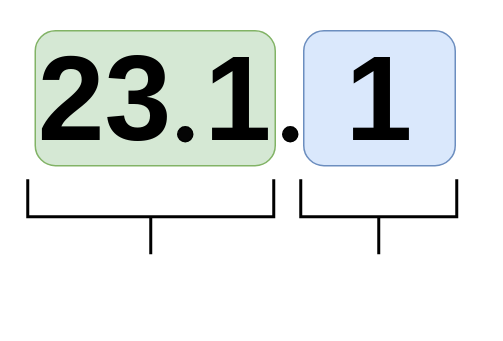
Some shapes in this 503 by 341 pixel diagram are drawn without their labels. The box of each missing label's shape, as (x1, y1, x2, y2) in pixels:
Month of first release in this release line: (26, 177, 274, 255)
Patch Level for this release line: (298, 177, 458, 255)
